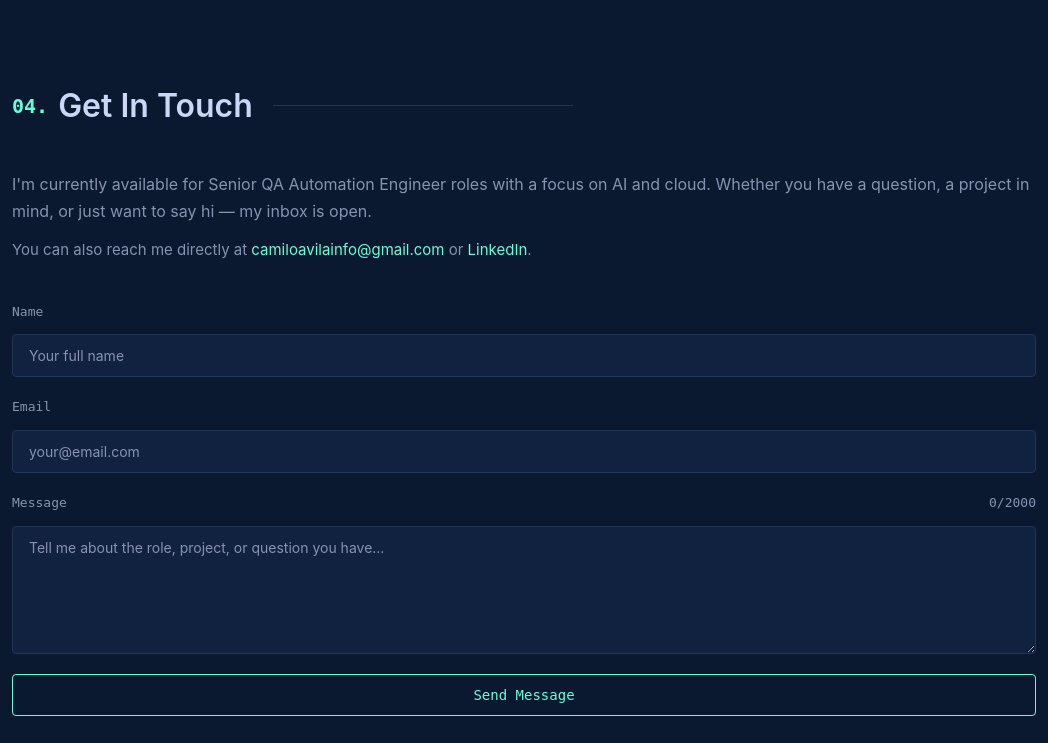
Scenario: ContactForm › Form Submission › shows generic error on network failure
Type "John" into the field labelled "Name".
click(524, 356); type("John")  # box x1=12 y1=334 x2=1036 y2=377
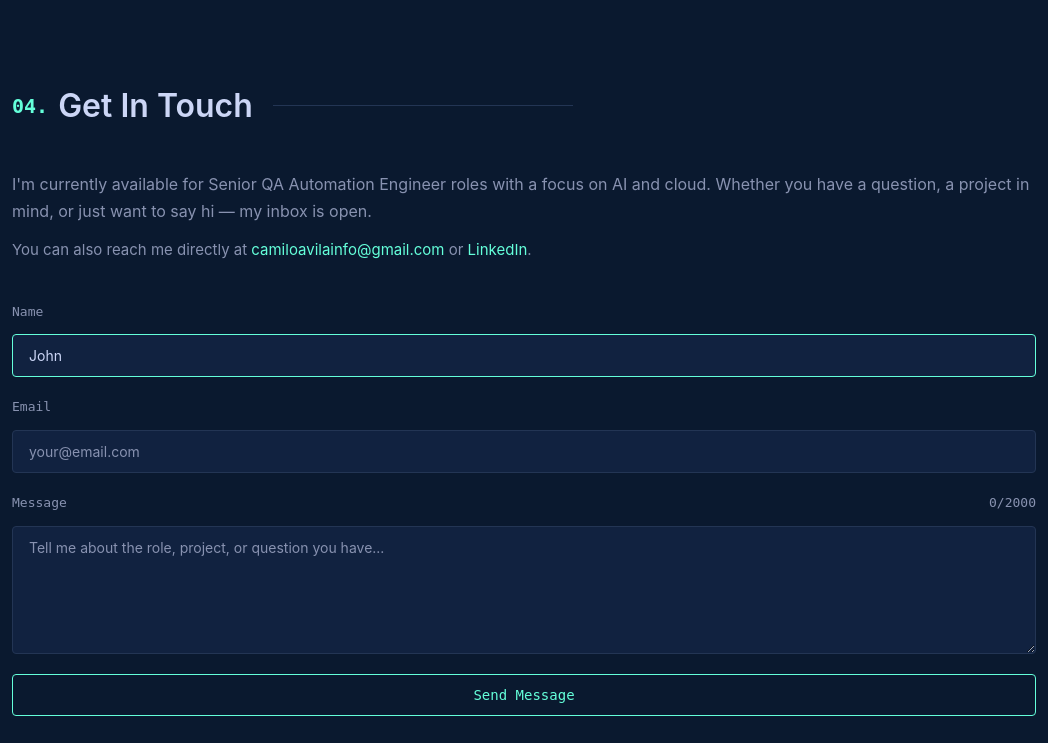
Type "john@example.com" into the field labelled "Email".
click(524, 452); type("john@example.com")  # box x1=12 y1=430 x2=1036 y2=473
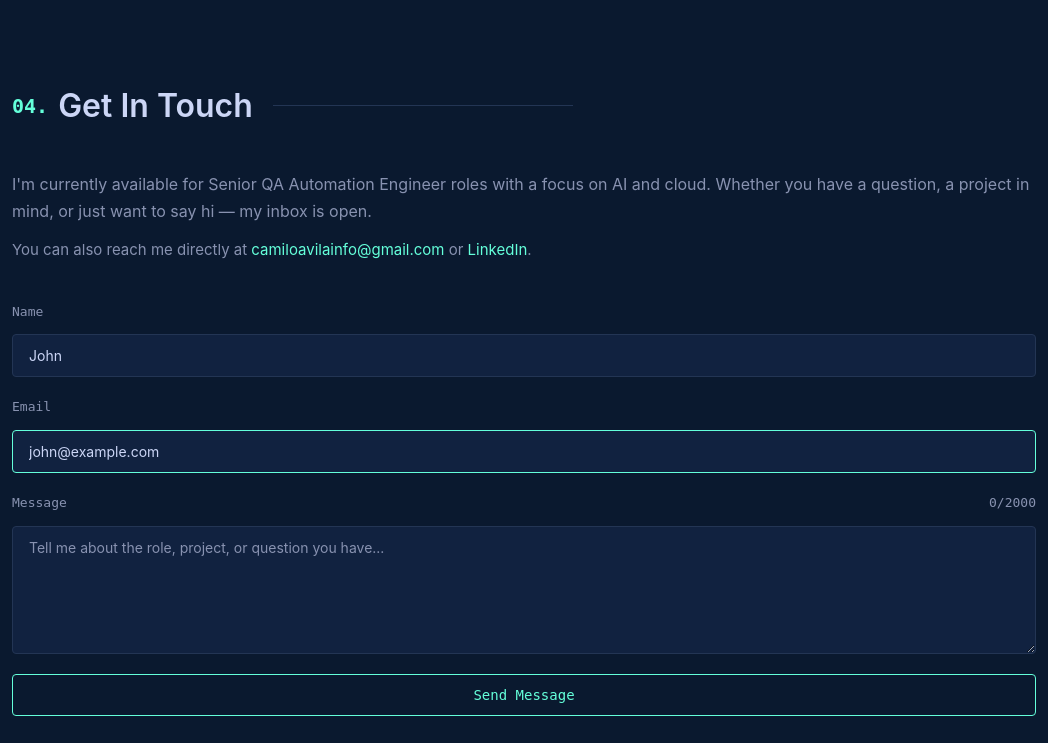
Type "Test" into the text box labelled "Message 0/2000".
click(524, 590); type("Test")  # box x1=12 y1=526 x2=1036 y2=654
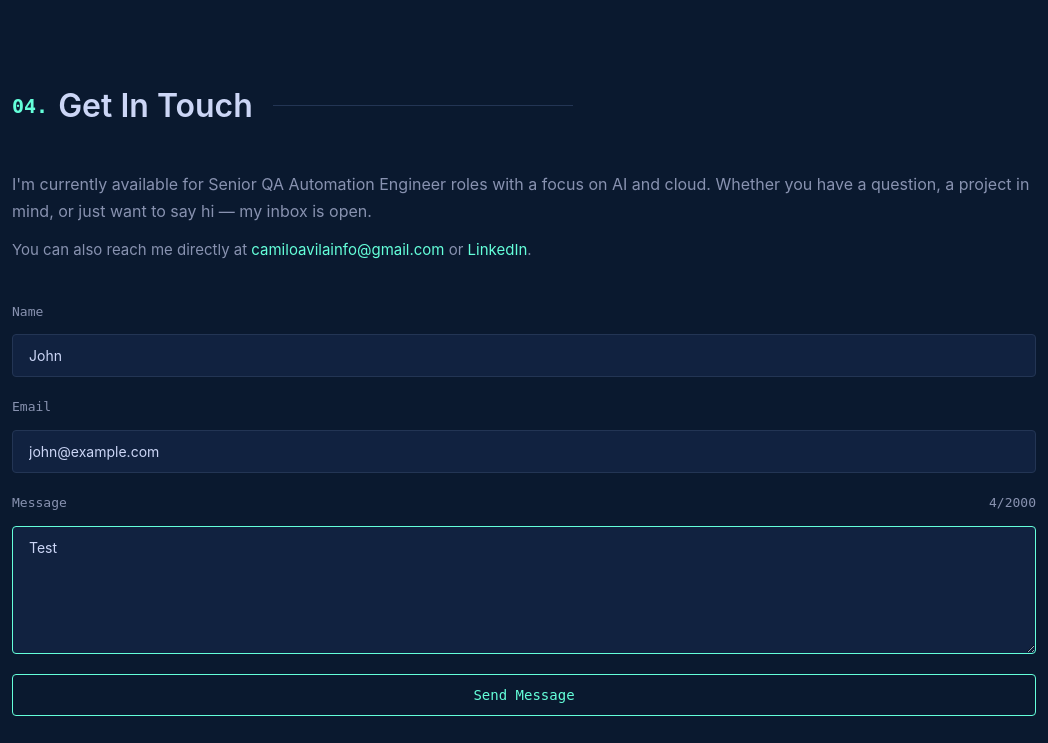
Click the button "Send Message".
click(524, 695)  # box x1=12 y1=674 x2=1036 y2=716
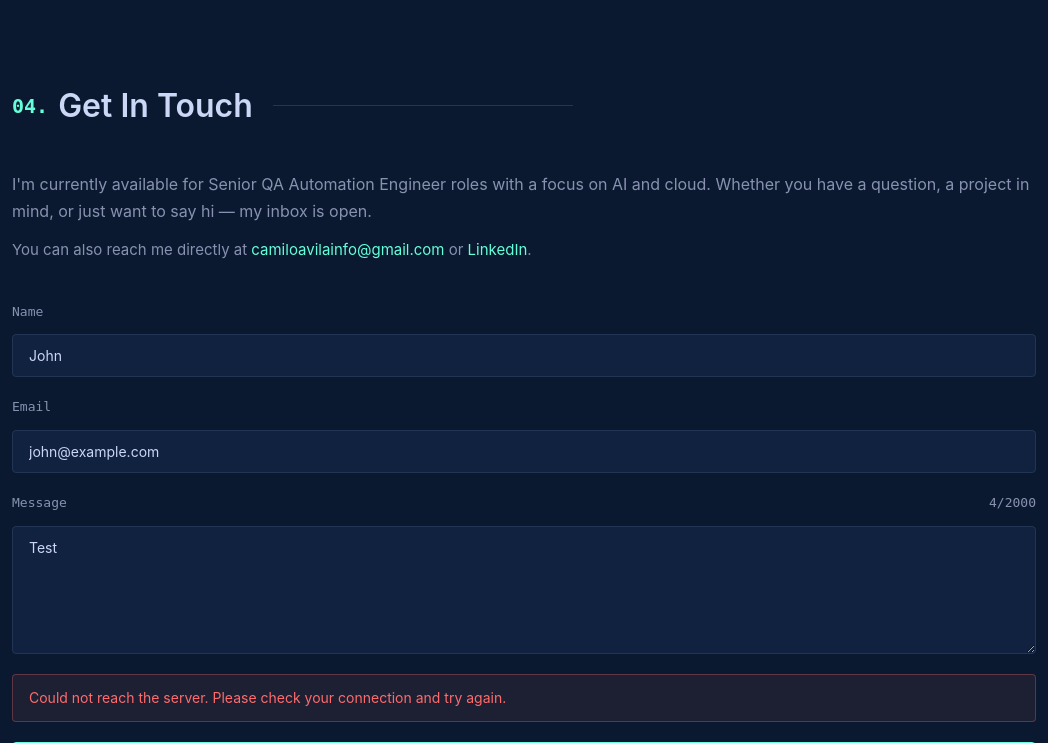
Expected: the text "Could not reach the server. Please check your connection and try again." is shown, x1=12 y1=674 x2=1036 y2=722
